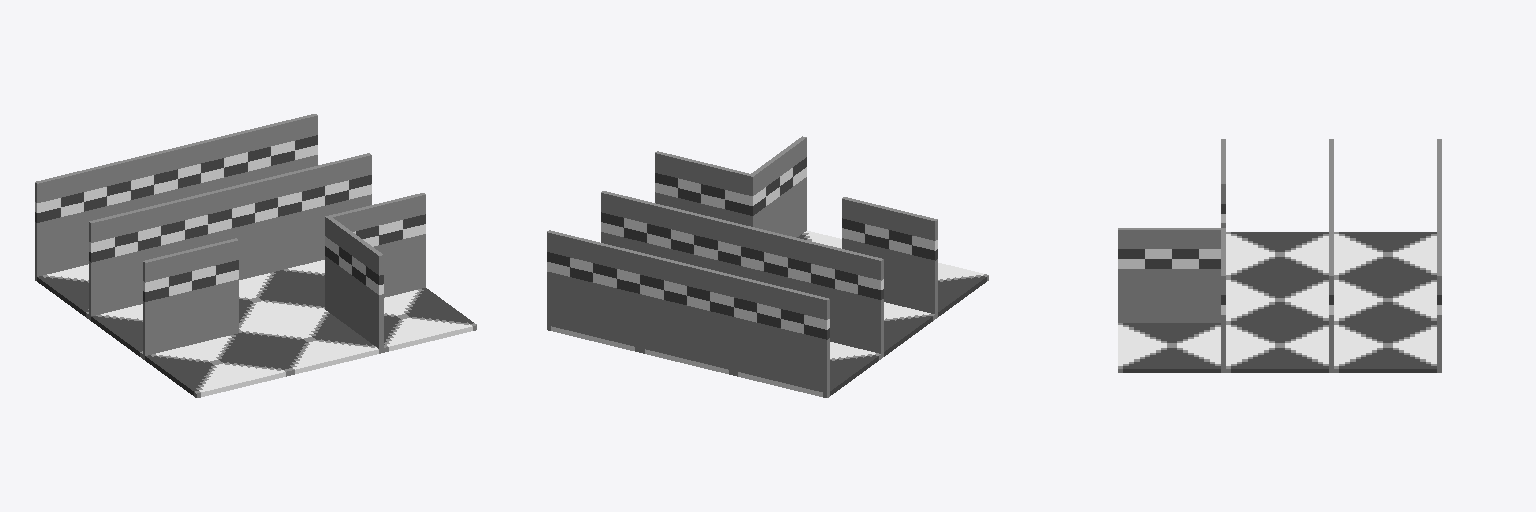
3 views of the same model, side by side, from view 1: azimuth 30°, elevation 25°; view 2: azimuth 150°, elevation 25°; view 3: azimuth 270°, elevation 25° (orthographic).
Parts seen in each view (by area): view 1: level_maze-5; view 2: level_maze-5; view 3: level_maze-5.
Boxes of the visible parts, <box> form: level_maze-5: <box>35,114,476,397</box>; level_maze-5: <box>547,136,988,397</box>; level_maze-5: <box>1118,139,1441,372</box>.
Bounding box in the file's own units: 60 × 20 × 60.
1 materials, 1 textured.